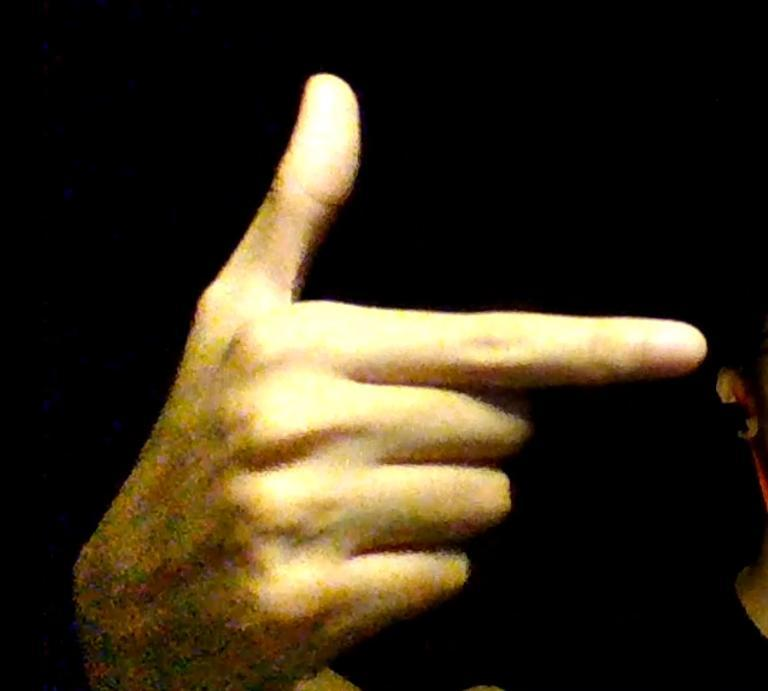g: (69, 72, 707, 691)
